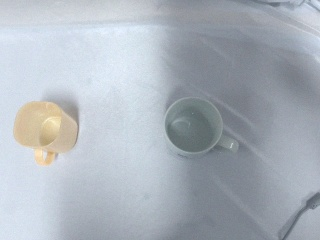cup: (14, 99, 80, 166), (163, 97, 224, 157)
